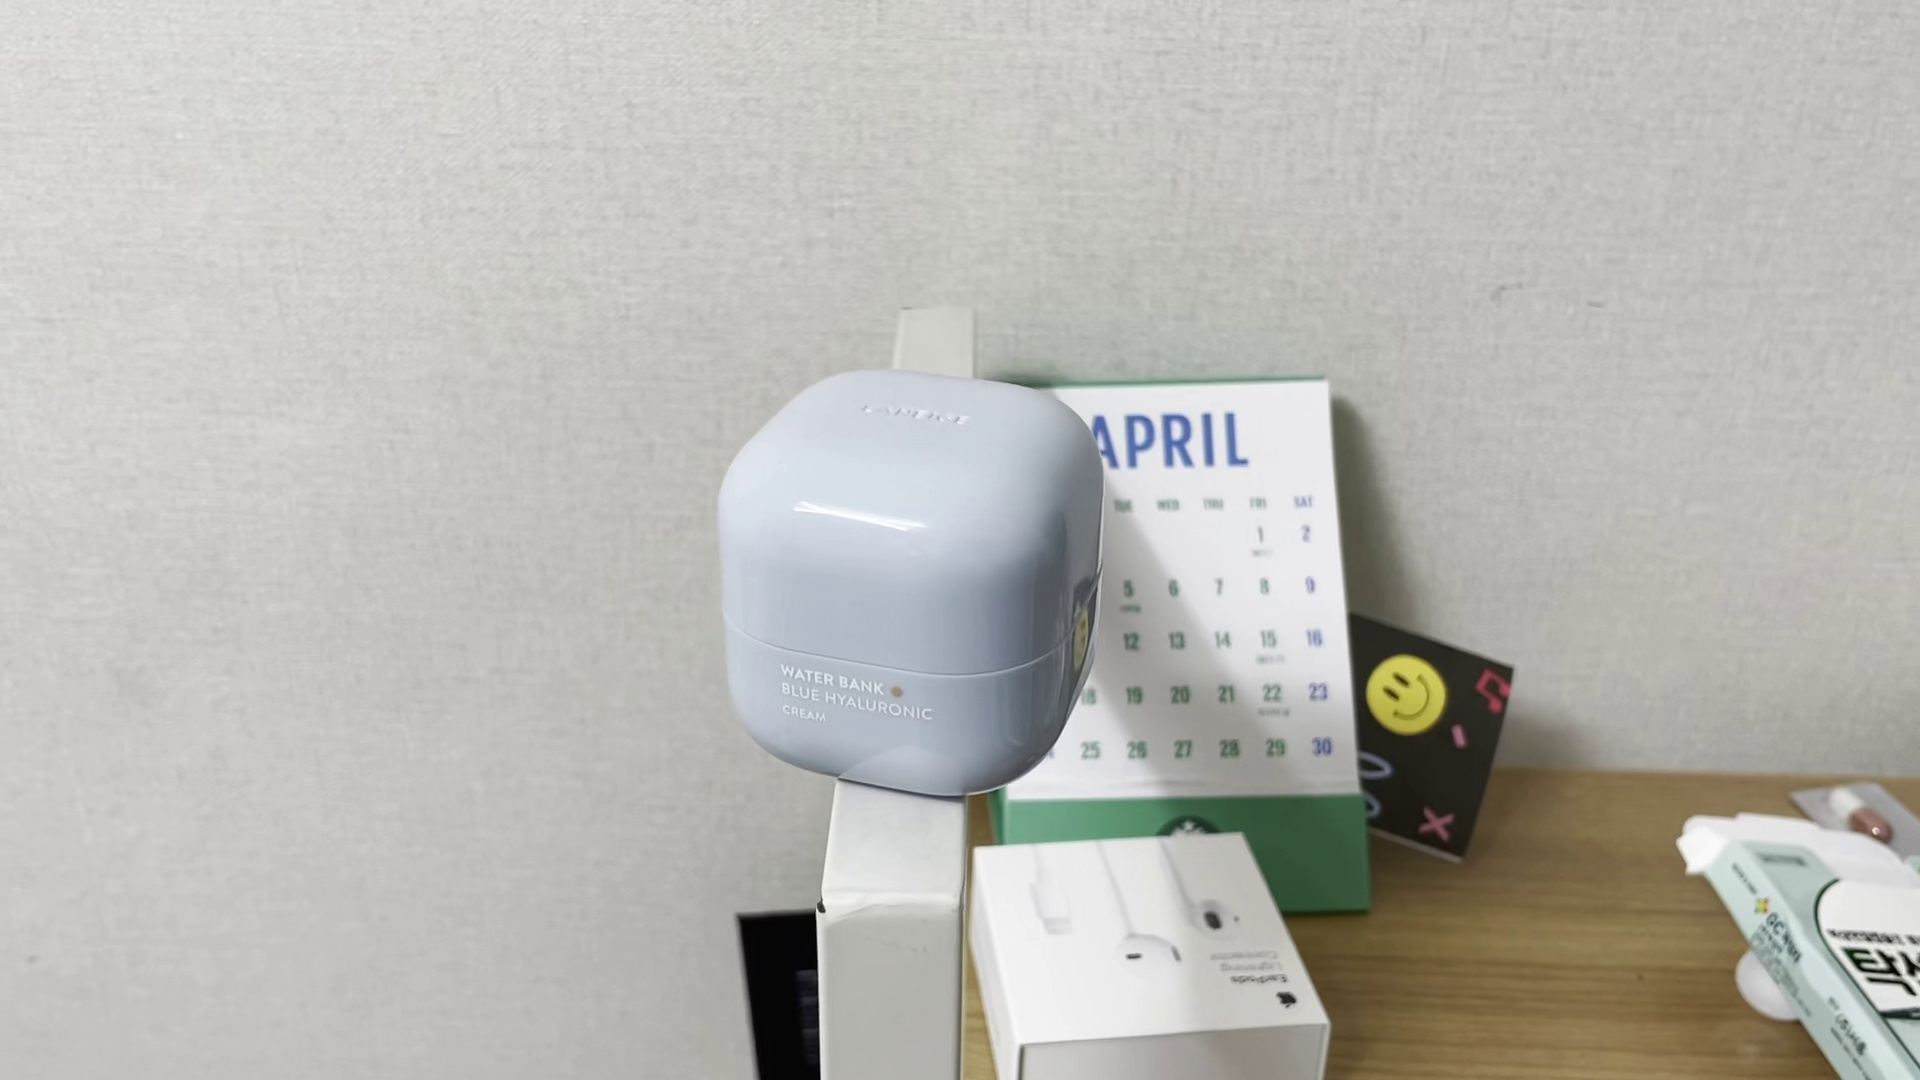cream: (727, 372, 1102, 793)
